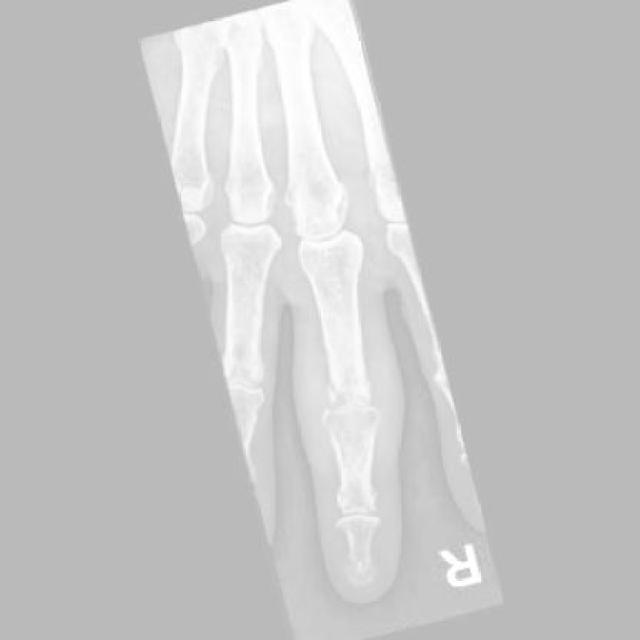Fracture: (220, 340, 271, 388), (321, 368, 374, 413)
